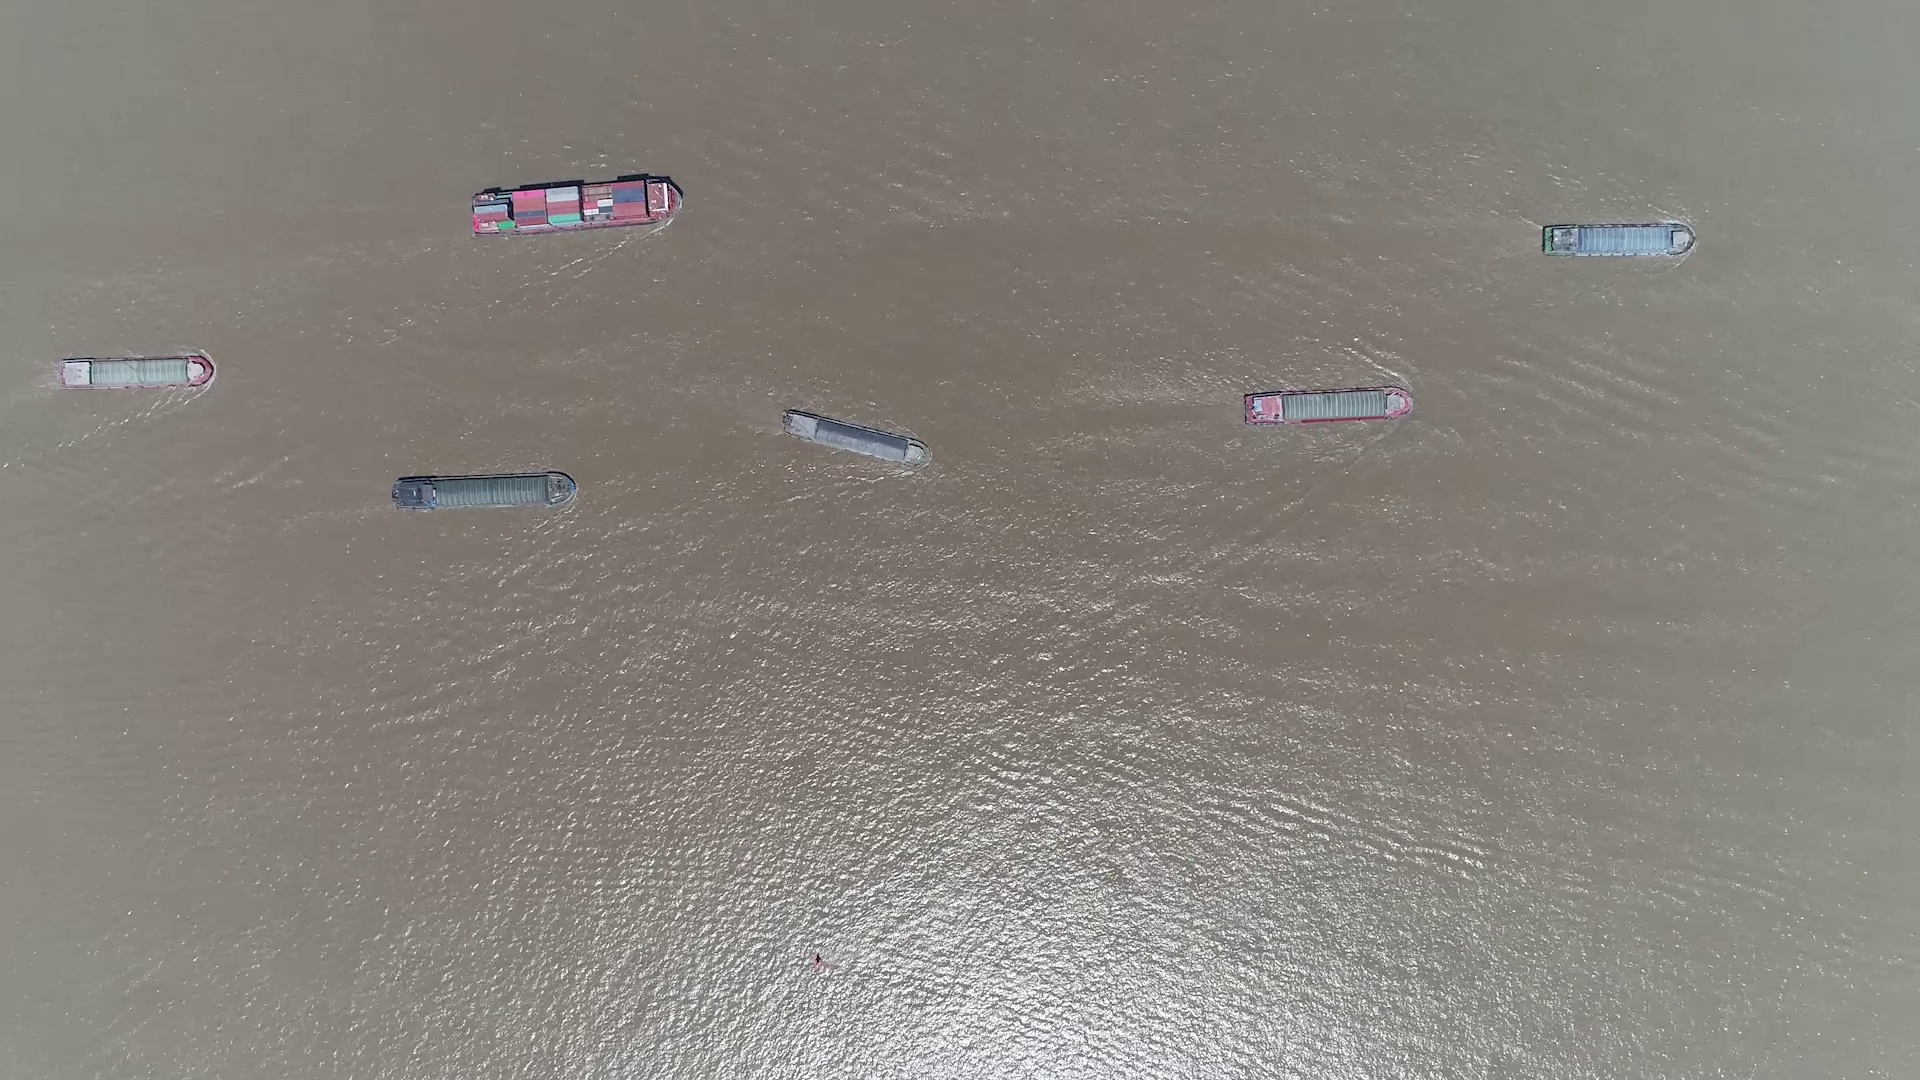ship: (468, 178, 680, 237), (781, 409, 928, 465), (394, 472, 575, 510), (1245, 386, 1414, 426), (54, 355, 211, 388), (1542, 224, 1692, 257)
